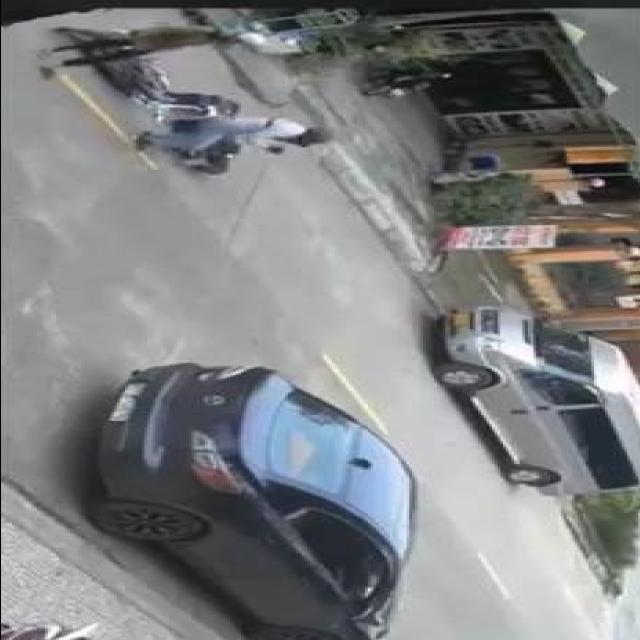accident: (38, 16, 334, 177)
